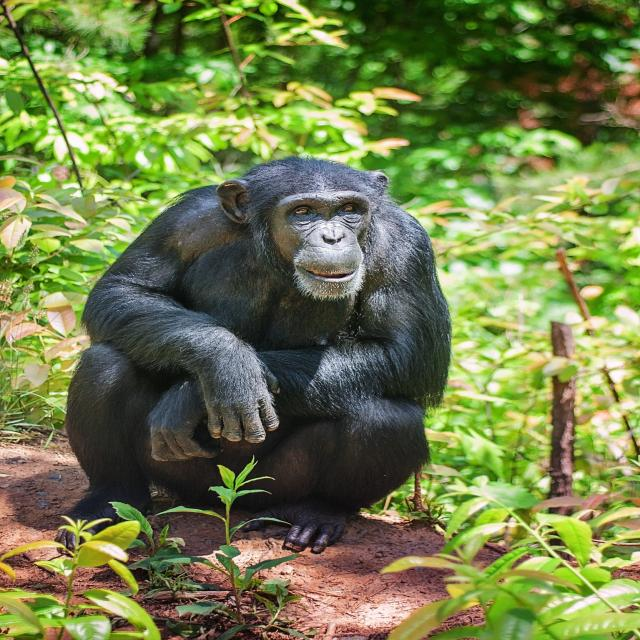chimpanzee: (66, 157, 450, 554)
